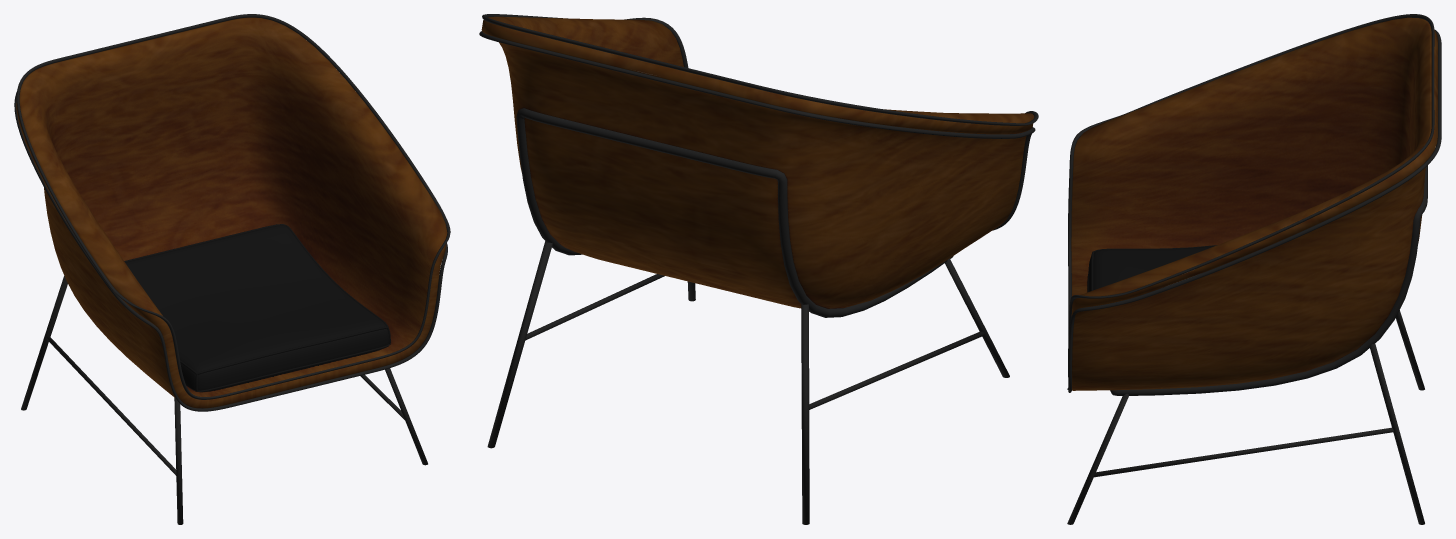
File: dlX - Lounge Chair (d-luX).fbx
3 renders of one model, left to right at view 1: azimuth 30°, elevation 25°; view 2: azimuth 150°, elevation 25°; view 3: azimuth 270°, elevation 25°, orthographic. The views are drawn at different scales.
Visible parts, largest first — view 1: Seat, Details, Seat_details, metal; view 2: Seat, metal, Seat_details; view 3: Seat, metal, Seat_details, Details.
Part boxes in pixels (x1,y1,x2,y2): Seat: (16, 17, 447, 408); Details: (124, 224, 390, 392); Seat_details: (14, 14, 450, 411); metal: (21, 276, 427, 524); Seat: (481, 16, 1034, 308); metal: (487, 108, 1009, 524); Seat_details: (479, 14, 1038, 230); Seat: (1071, 17, 1437, 390); metal: (1067, 165, 1427, 524); Seat_details: (1068, 14, 1441, 392); Details: (1087, 245, 1217, 292).
Size of the model in its own units: 98.11 by 95.15 by 85.23.
3 materials, 1 textured.
